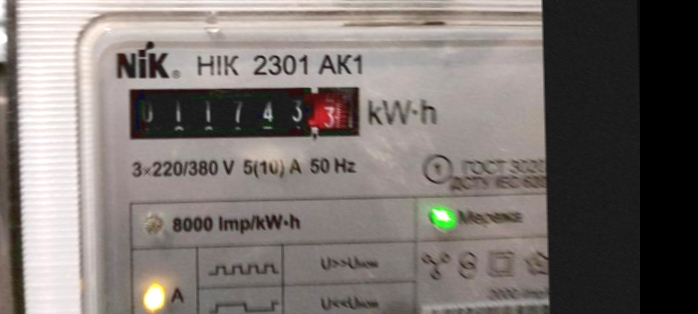0: (138, 96, 152, 124)
1: (199, 94, 211, 123), (170, 95, 180, 122)
3: (319, 103, 334, 129), (288, 95, 302, 122)
4: (258, 96, 272, 123)
7: (228, 94, 243, 122)
screen: (115, 72, 370, 152)
